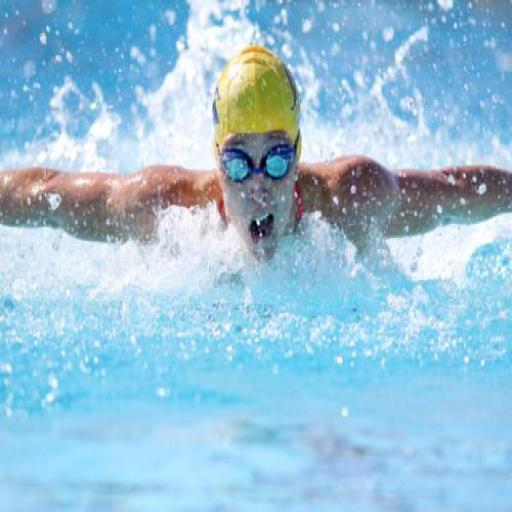swimming: (0, 42, 511, 268)
